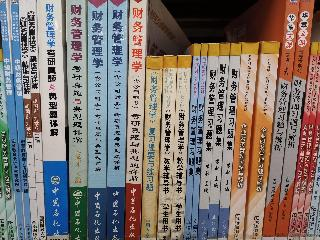book-spine: (272, 0, 314, 240), (262, 0, 300, 240), (35, 1, 70, 240), (243, 41, 279, 240), (69, 0, 98, 239), (0, 0, 26, 240), (287, 41, 318, 240), (8, 0, 33, 240), (122, 0, 147, 240), (214, 43, 242, 240), (86, 1, 109, 240), (105, 1, 128, 240), (18, 0, 40, 239), (139, 56, 165, 239), (208, 42, 231, 240), (156, 53, 179, 240), (28, 0, 46, 238), (169, 55, 192, 240), (198, 43, 218, 240), (241, 41, 260, 238), (190, 43, 208, 240), (183, 42, 200, 240)
